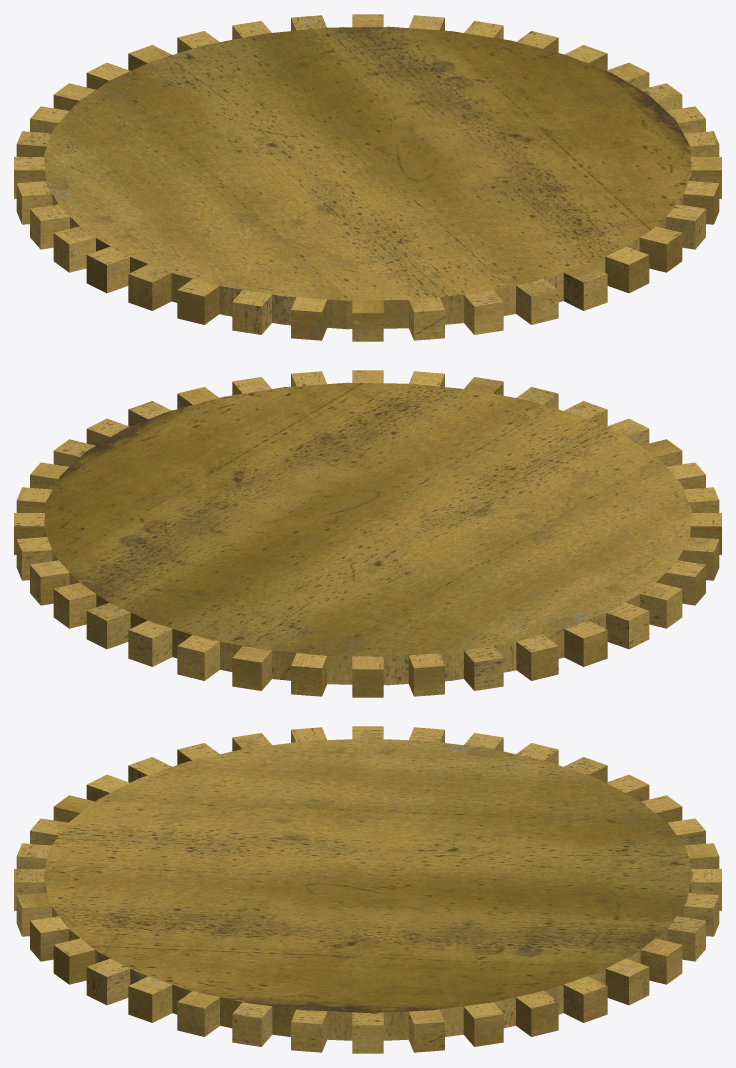
Rendered from gear36.obj.
3 renders of one model, top to bottom at view 1: azimuth 30°, elevation 25°; view 2: azimuth 150°, elevation 25°; view 3: azimuth 270°, elevation 25°, orthographic.
Parts seen in each view (by area): view 1: Cube.037_Cube.066; view 2: Cube.037_Cube.066; view 3: Cube.037_Cube.066.
Boxes of the visible parts, left/top/right/bottom form: Cube.037_Cube.066: left=14, top=14, right=721, bottom=341; Cube.037_Cube.066: left=14, top=370, right=721, bottom=697; Cube.037_Cube.066: left=14, top=726, right=721, bottom=1053.
Bounding box in the file's own units: 2.57 × 0.1138 × 2.57.
